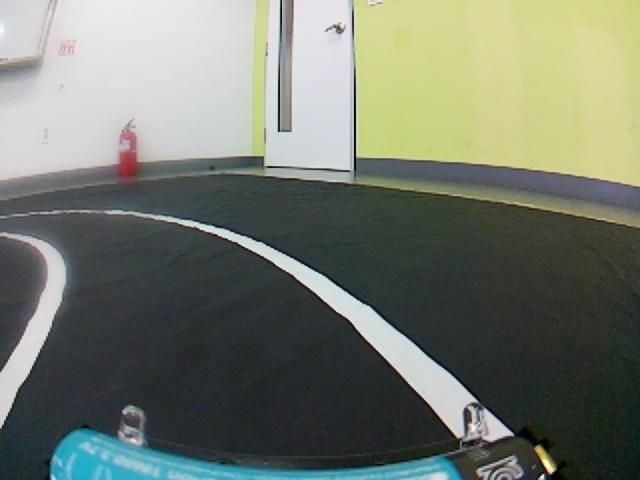left: (1, 207, 600, 480)
